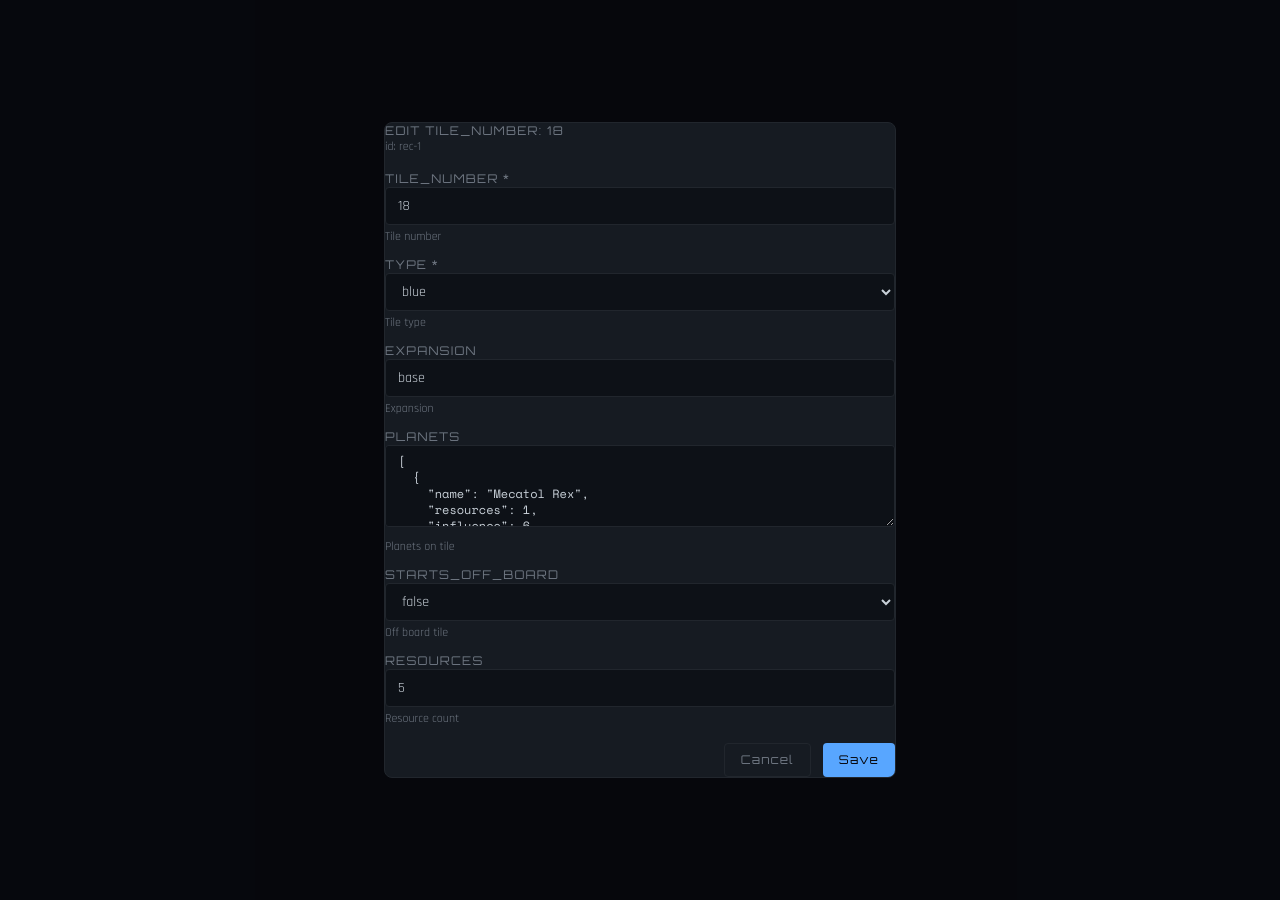
AdminRecordModal › shows error message and keeps modal open on save error
Click the button "Save".
click(859, 760)  # box [823, 743, 895, 777]
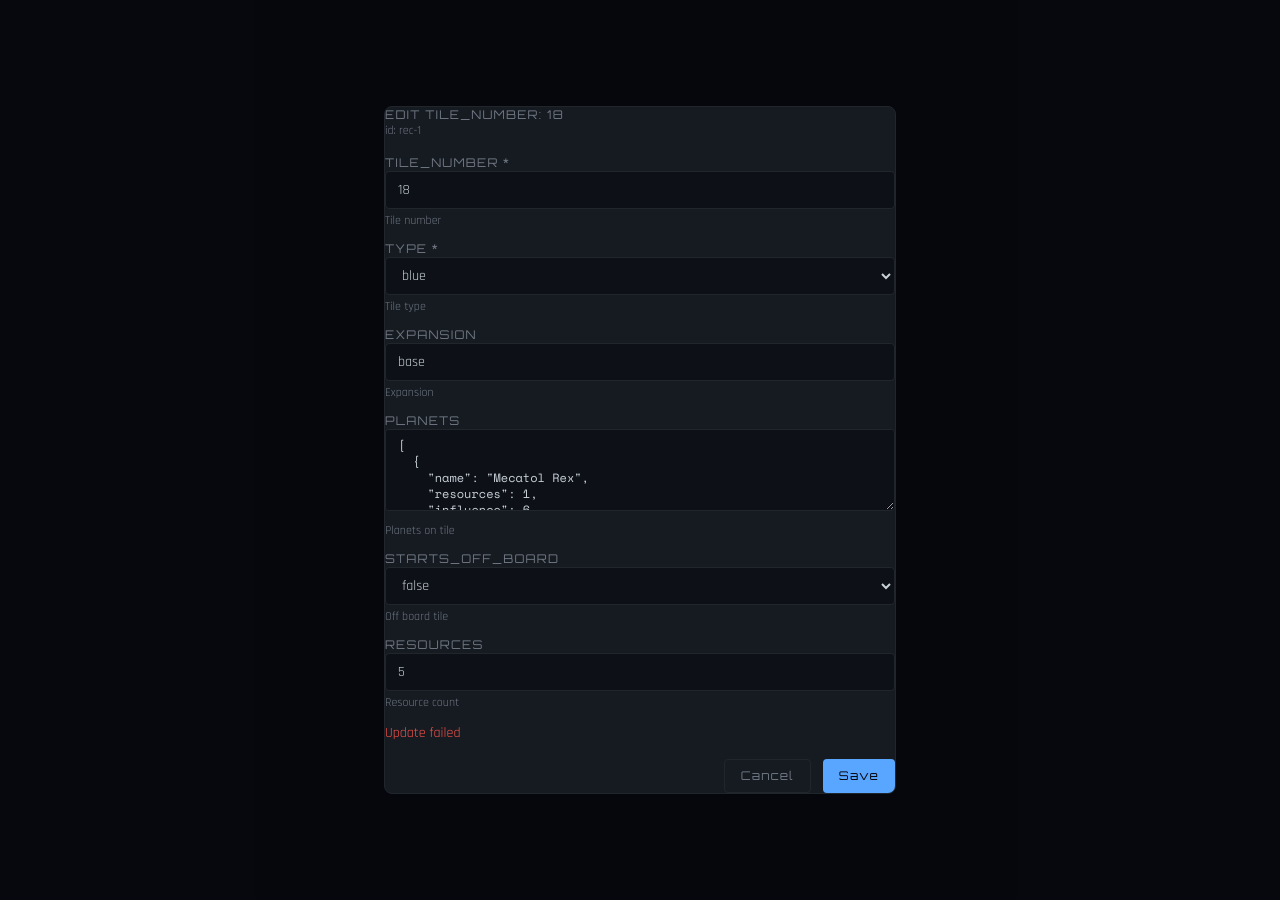
Result: the text "Update failed" is shown at [385, 724, 460, 742]
